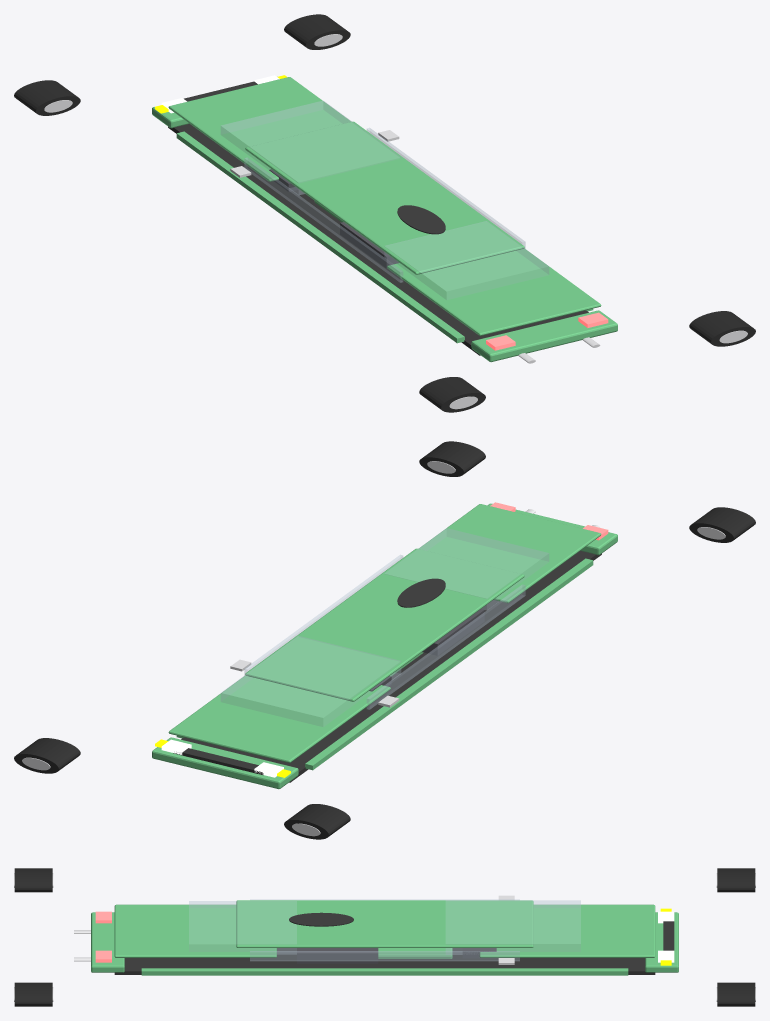
File: compact.glb
3 views of the same model, one above another, from view 1: azimuth 30°, elevation 25°; view 2: azimuth 150°, elevation 25°; view 3: azimuth 270°, elevation 25° (orthographic). The views are drawn at different scales.
Visible parts, largest first — view 1: Roof, Trunk, Glass, Hood, RearGlass, Chassis, Skirt_L, Bumper_R, SideGlass_L, Wheel_FR, Wheel_FL, Wheel_RR (+4 smaller); view 2: Roof, Hood, Glass, Trunk, RearGlass, Chassis, Skirt_L, Bumper_F, SideGlass_L, Wheel_RR, Wheel_RL, Wheel_FR (+6 smaller); view 3: Roof, Hood, Trunk, Glass, Chassis, RearGlass, Skirt_R, SideGlass_R, Seat_R, Bumper_R, Wheel_FL, Wheel_FR (+8 smaller).
Boxes of the visible parts, x1=… form: Roof: x1=245, y1=121, x2=524, y2=274; Trunk: x1=387, y1=248, x2=601, y2=335; Glass: x1=221, y1=101, x2=400, y2=194; Hood: x1=168, y1=77, x2=351, y2=181; RearGlass: x1=384, y1=221, x2=548, y2=299; Chassis: x1=168, y1=123, x2=588, y2=355; Skirt_L: x1=176, y1=131, x2=464, y2=343; Bumper_R: x1=471, y1=310, x2=617, y2=362; SideGlass_L: x1=244, y1=157, x2=402, y2=282; Wheel_FR: x1=284, y1=14, x2=350, y2=49; Wheel_FL: x1=14, y1=80, x2=80, y2=115; Wheel_RR: x1=689, y1=311, x2=755, y2=346; Roof: x1=245, y1=548, x2=524, y2=701; Hood: x1=168, y1=675, x2=390, y2=762; Glass: x1=221, y1=636, x2=400, y2=726; Trunk: x1=418, y1=504, x2=601, y2=603; RearGlass: x1=384, y1=528, x2=548, y2=609; Chassis: x1=181, y1=550, x2=601, y2=782; Skirt_L: x1=305, y1=558, x2=593, y2=770; Bumper_F: x1=152, y1=737, x2=298, y2=789; SideGlass_L: x1=367, y1=584, x2=525, y2=709; Wheel_RR: x1=419, y1=441, x2=485, y2=476; Wheel_RL: x1=689, y1=507, x2=755, y2=542; Wheel_FR: x1=14, y1=738, x2=80, y2=773; Roof: x1=236, y1=900, x2=533, y2=947; Hood: x1=479, y1=904, x2=655, y2=957; Trunk: x1=114, y1=904, x2=276, y2=957; Glass: x1=446, y1=900, x2=580, y2=954; Chassis: x1=114, y1=948, x2=655, y2=974; RearGlass: x1=189, y1=901, x2=296, y2=954; Skirt_R: x1=141, y1=968, x2=628, y2=975; SideGlass_R: x1=250, y1=951, x2=519, y2=960; Seat_R: x1=297, y1=948, x2=378, y2=963; Bumper_R: x1=91, y1=912, x2=124, y2=972; Wheel_FL: x1=717, y1=868, x2=755, y2=892; Wheel_FR: x1=717, y1=982, x2=755, y2=1006.
Size of the model in its own units: 9.8 by 1.46 by 23.06.
